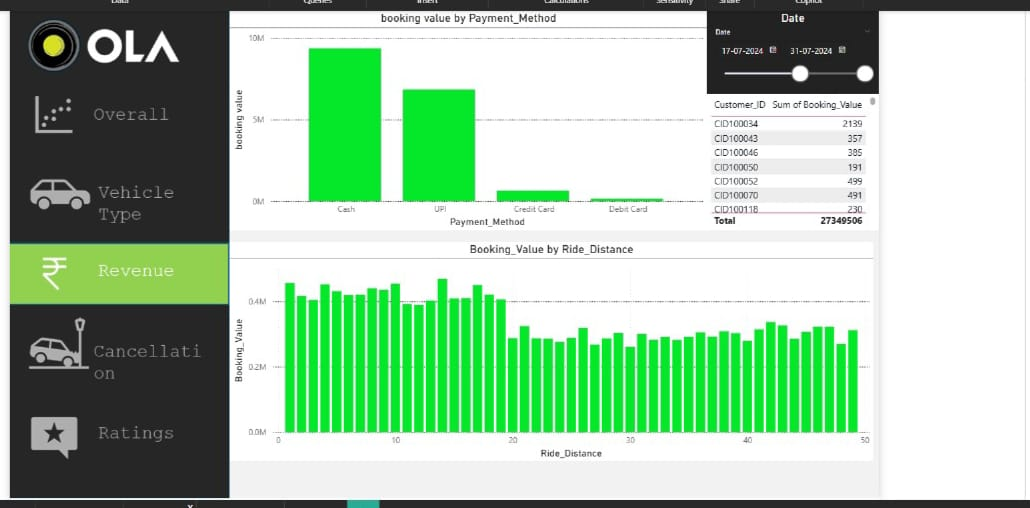

This screenshot's page, from the dashboard's own definition file:
{"tool":"powerbi","page":{"name":"Revenue","canvas":[1280,720],"ordinal":2},"visuals":[{"type":"actionButton","box":[0,235.6,323.9,88.3],"z":0},{"type":"actionButton","box":[0,104.3,323.9,92],"z":1000},{"type":"actionButton","box":[0,446.6,323.9,108],"z":2000},{"type":"actionButton","box":[0,584.1,323.9,92],"z":3000},{"type":"columnChart","fields":{"Category":["July.Payment_Method"],"Y":["Sum(July.Booking_Value)"]},"box":[323.8,0,702.3,322.5],"z":4000},{"type":"columnChart","title":"Booking_Value by Ride_Distance","fields":{"Category":["July.Ride_Distance"],"Y":["Sum(July.Booking_Value)"]},"box":[323.8,340.3,946.8,322.5],"z":5000},{"type":"tableEx","fields":{"Values":["July.Customer_ID","Sum(July.Booking_Value)"]},"box":[1026.1,121.6,254.1,200.9],"z":6000},{"type":"slicer","title":"Date","fields":{"Values":["July.Date"]},"box":[1026.1,0,254.1,121.6],"z":7000}]}

Visuals, with their boxes on the page's 1280x720 design canvas (x1, y1, x2, y2). These are canvas units, not pixel positions in the 1030x508 screenshot, which may show the page scaled, cropped or inside an application window:
actionButton: [x1=0, y1=236, x2=324, y2=324]
actionButton: [x1=0, y1=104, x2=324, y2=196]
actionButton: [x1=0, y1=447, x2=324, y2=555]
actionButton: [x1=0, y1=584, x2=324, y2=676]
columnChart - July.Payment_Method x Sum(July.Booking_Value): [x1=324, y1=0, x2=1026, y2=322]
"Booking_Value by Ride_Distance" columnChart: [x1=324, y1=340, x2=1271, y2=663]
tableEx - July.Customer_ID x Sum(July.Booking_Value): [x1=1026, y1=122, x2=1280, y2=322]
"Date" slicer: [x1=1026, y1=0, x2=1280, y2=122]
